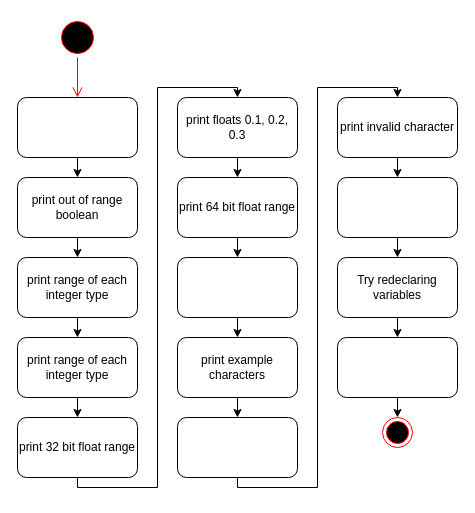
Some shapes in this 475 by 513 pixel diagram are drawn without their labels. Here are the shapes that lost their labels. From the top down, the box of each, then its label:
(16, 96, 138, 158): print boolean range
(336, 176, 458, 238): Try to print invalid names
(176, 256, 298, 318): print out of range floats
(336, 336, 458, 398): Try mixing types
(176, 416, 298, 478): print character as an integer
